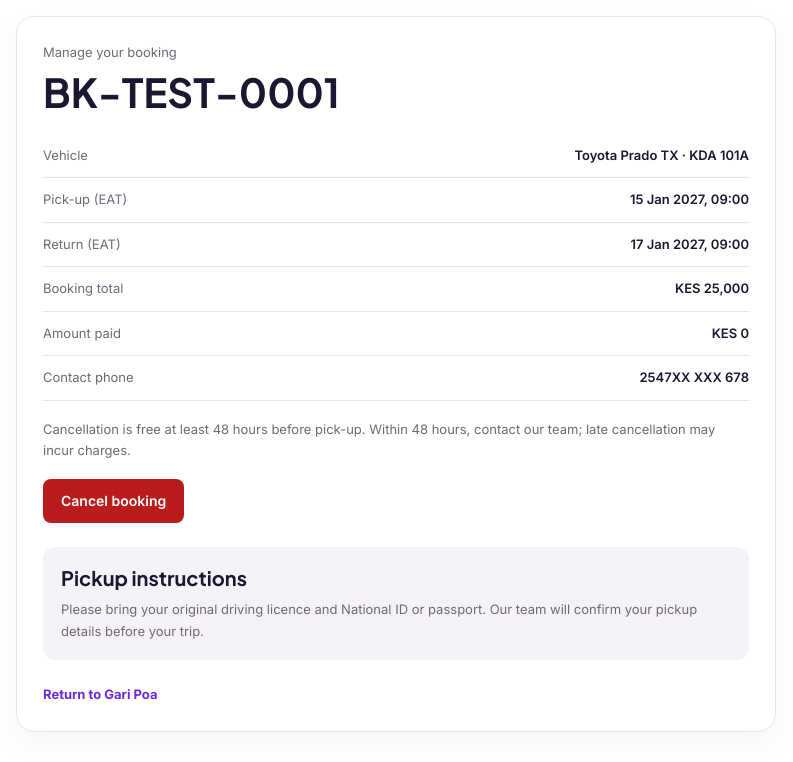
it: guest checkout › requires an explicit cancellation confirmation and uses the scoped guest session
The image size is (793, 762).
Click the button "Cancel booking": (114, 501) [43, 479, 184, 523]
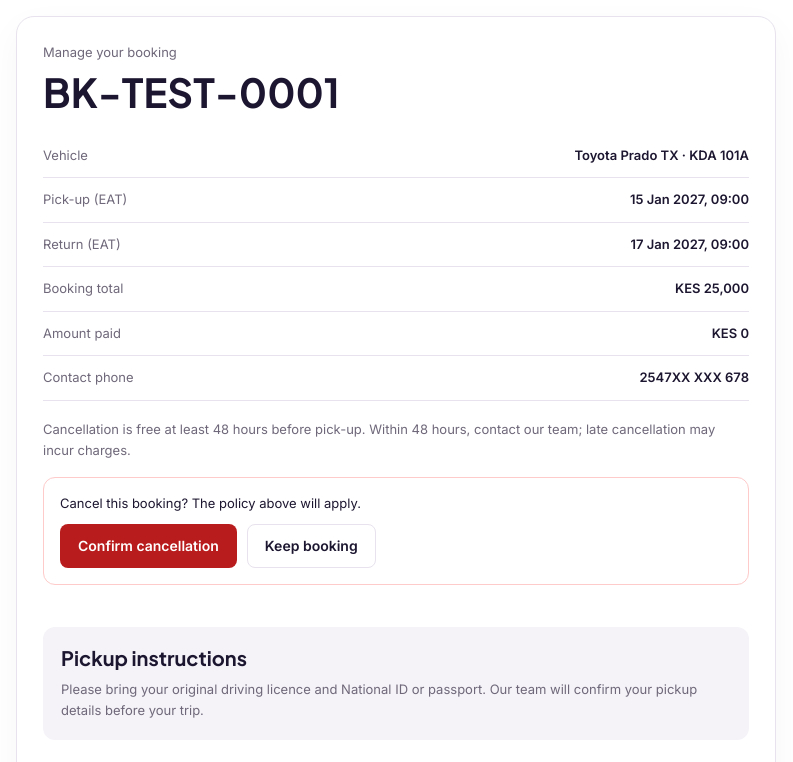
Expected: the text "Cancellation is free at least 48 hours before pick-up" is shown, [43, 420, 715, 458]
Click the button "Confirm cancellation": (148, 546) [60, 524, 237, 568]
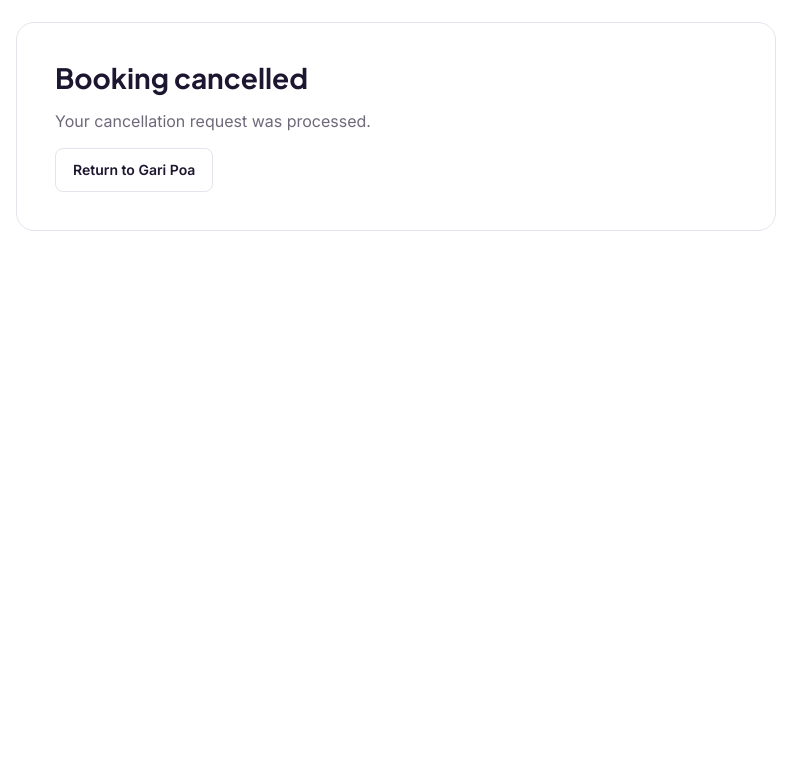
Expected: the heading "Booking cancelled" is shown, [55, 61, 308, 95]
